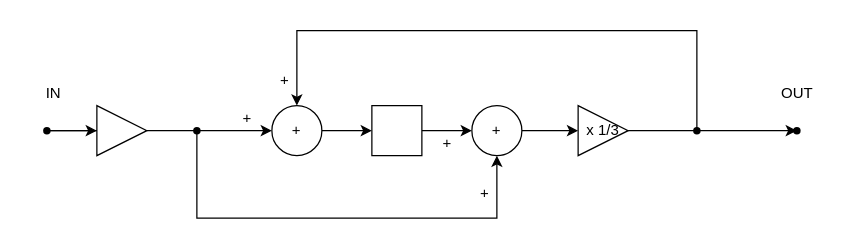
Image size: 844x250. Some labels were removed from this diagram. Here are the shapes that lost their labels. From the top down, the centre of each, then its label:
At point (121, 130): "x 2".
At point (396, 130): "Z -1".
